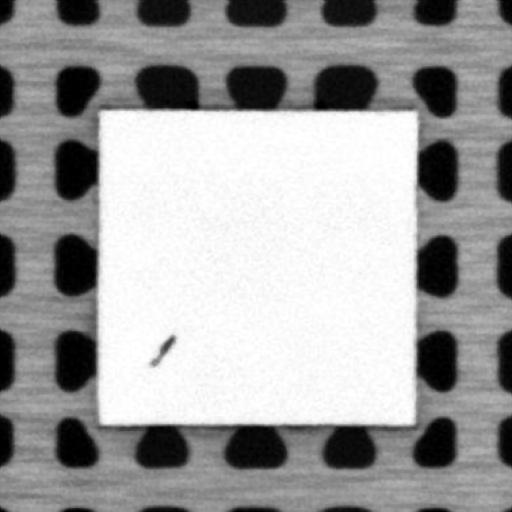DIE_INK: (145, 332, 179, 368)
